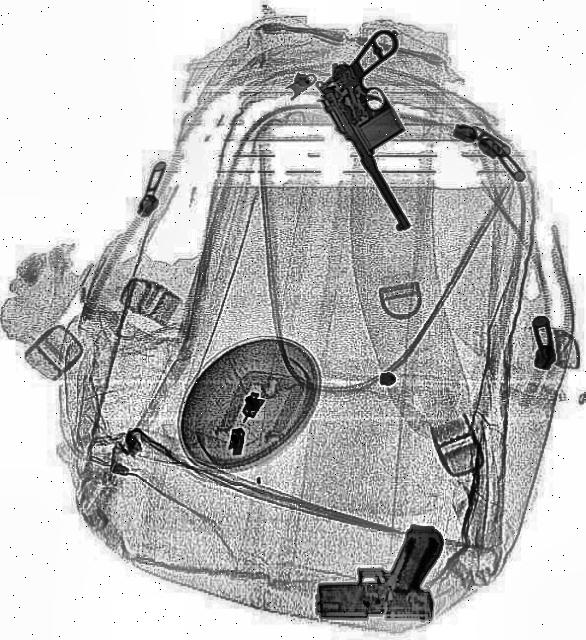Gun: (301, 27, 483, 237), (312, 526, 442, 624)
